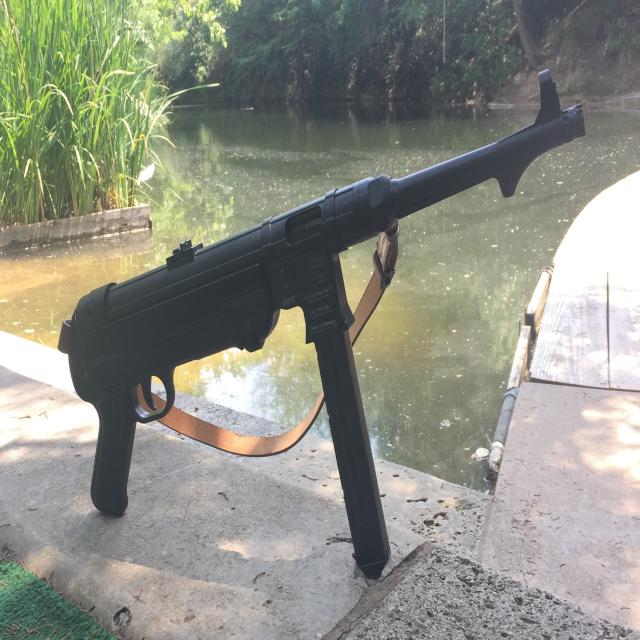SMG: (57, 71, 586, 583)
